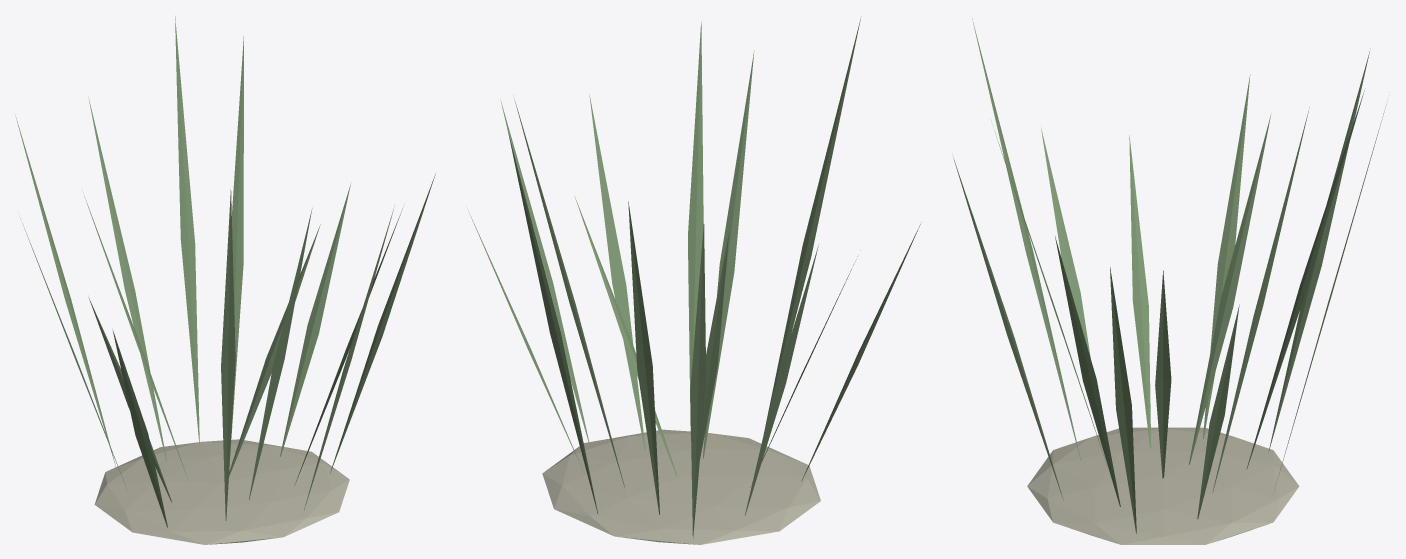
The picture shows the model from 3 angles, left to right: view 1: azimuth 30°, elevation 25°; view 2: azimuth 150°, elevation 25°; view 3: azimuth 270°, elevation 25°; orthographic projection. The views are drawn at different scales.
Visible parts, largest first — view 1: CE-011 Rooted eelgrass patch batched; view 2: CE-011 Rooted eelgrass patch batched; view 3: CE-011 Rooted eelgrass patch batched.
Boxes of the visible parts, bbox=[...] form: CE-011 Rooted eelgrass patch batched: bbox=[15, 16, 435, 544]; CE-011 Rooted eelgrass patch batched: bbox=[468, 16, 921, 544]; CE-011 Rooted eelgrass patch batched: bbox=[953, 18, 1386, 544].
Bounding box in the file's own units: 0.4676 × 0.5 × 0.4528.
